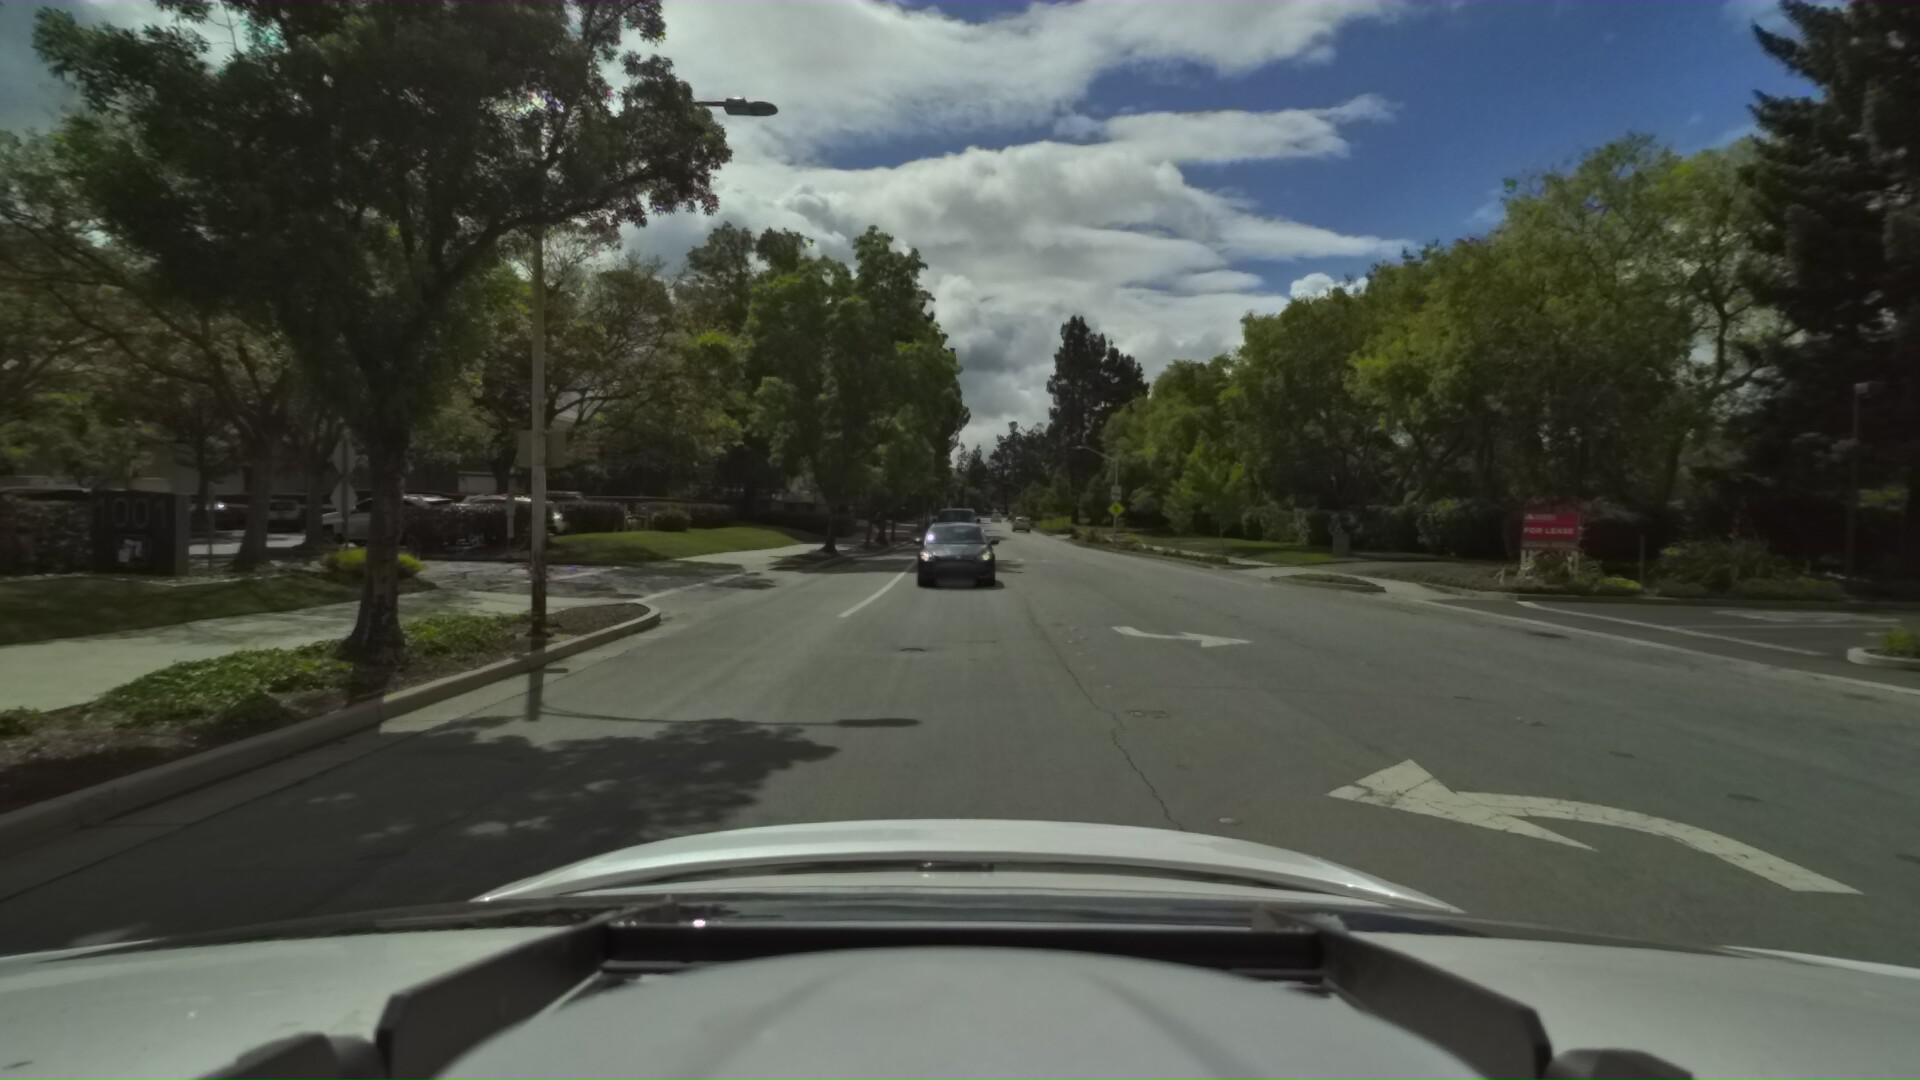car: (905, 513, 996, 593), (928, 497, 978, 550)
